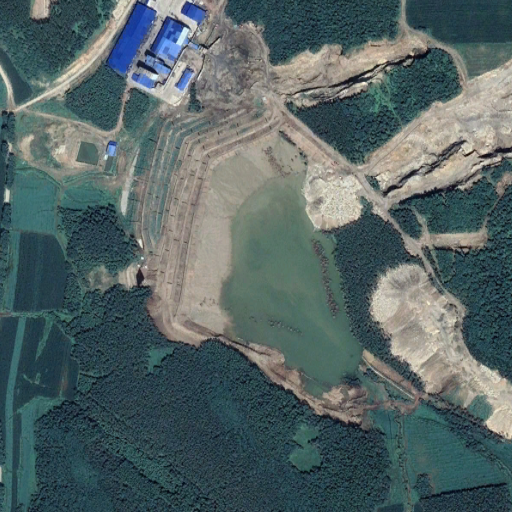tp: (124, 105, 366, 396)
